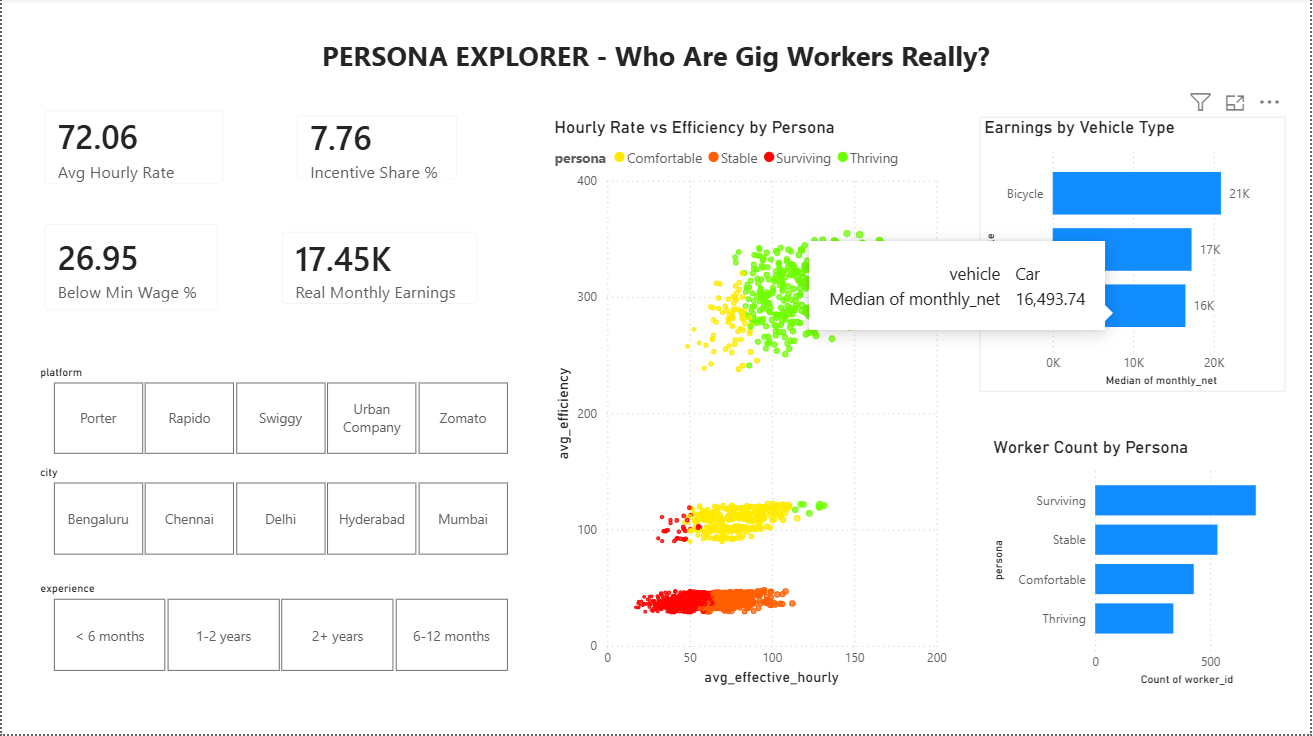

The page's visual inventory and layout, read from the dashboard file:
{"tool":"powerbi","page":{"name":"Persona Explorer","canvas":[1280,720],"ordinal":2},"visuals":[{"type":"textbox","box":[308.2,33,695.8,59.9],"z":0},{"type":"slicer","fields":{"Values":["gig_monthly_with_personas.platform"]},"box":[24.5,354.6,494,97.8],"z":1000},{"type":"slicer","fields":{"Values":["gig_monthly_with_personas.city"]},"box":[24.5,452.4,494,99],"z":2000},{"type":"slicer","fields":{"Values":["gig_monthly_with_personas.experience"]},"box":[24.5,566.2,494,99],"z":3000},{"type":"cardVisual","fields":{"Data":["gig_monthly_with_personas.Real Monthly Earnings"]},"box":[256.8,211.6,225,105.2],"z":4000},{"type":"cardVisual","fields":{"Data":["gig_monthly_with_personas.Avg Hourly Rate"]},"box":[24.5,92.9,209.1,106.4],"z":5000},{"type":"cardVisual","fields":{"Data":["gig_monthly_with_personas.Below Min Wage %"]},"box":[24.5,204.2,204.2,118.6],"z":6000},{"type":"cardVisual","fields":{"Data":["gig_monthly_with_personas.Incentive Share %"]},"box":[271.5,97.8,192,97.8],"z":7000},{"type":"clusteredBarChart","title":"Worker Count by Persona","fields":{"Category":["gig_monthly_with_personas.persona"],"Y":["CountNonNull(gig_monthly_with_personas.worker_id)"]},"box":[964.8,429.2,299.6,248.2],"z":8000},{"type":"scatterChart","title":"Hourly Rate vs Efficiency by Persona","fields":{"X":["gig_monthly_with_personas.avg_effective_hourly"],"Y":["gig_monthly_with_personas.avg_efficiency"],"Series":["gig_monthly_with_personas.persona"],"Size":["Avg(gig_monthly_with_personas.monthly_net)"]},"box":[535.6,116.2,393.8,561.3],"z":9000},{"type":"clusteredBarChart","title":"Earnings by Vehicle Type","fields":{"Category":["gig_monthly_with_personas.vehicle"],"Y":["Median(gig_monthly_with_personas.monthly_net)"]},"box":[956.3,116.2,299.6,269],"z":10000}]}

Visuals, with their boxes in screenshot pixels (x1, y1, x2, y2), scaled from the page's 1280x720 canvas onto the 1313x736 screenshot:
textbox: (316,34,1030,95)
slicer - gig_monthly_with_personas.platform: (25,362,532,462)
slicer - gig_monthly_with_personas.city: (25,462,532,564)
slicer - gig_monthly_with_personas.experience: (25,579,532,680)
cardVisual - gig_monthly_with_personas.Real Monthly Earnings: (263,216,494,324)
cardVisual - gig_monthly_with_personas.Avg Hourly Rate: (25,95,240,204)
cardVisual - gig_monthly_with_personas.Below Min Wage %: (25,209,235,330)
cardVisual - gig_monthly_with_personas.Incentive Share %: (278,100,475,200)
"Worker Count by Persona" clusteredBarChart: (990,439,1297,692)
"Hourly Rate vs Efficiency by Persona" scatterChart: (549,119,953,693)
"Earnings by Vehicle Type" clusteredBarChart: (981,119,1288,394)
